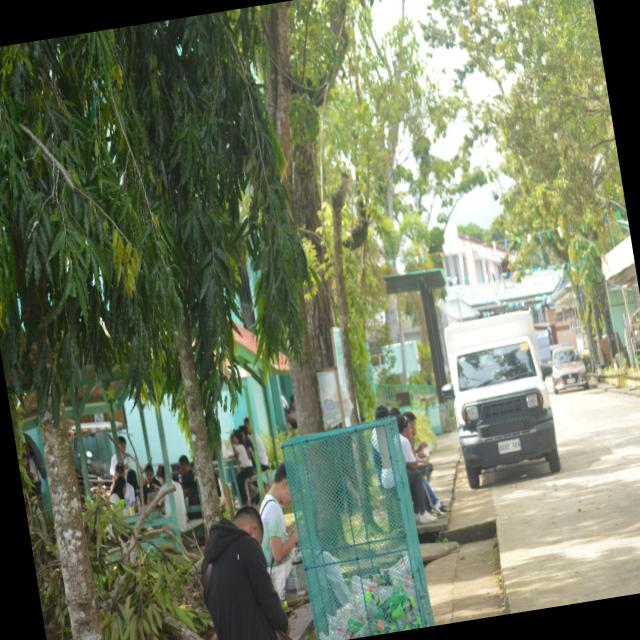person: (201, 506, 289, 639), (259, 464, 297, 600), (396, 415, 436, 523), (230, 431, 253, 505), (178, 455, 199, 506), (109, 436, 128, 476), (142, 464, 160, 505)
